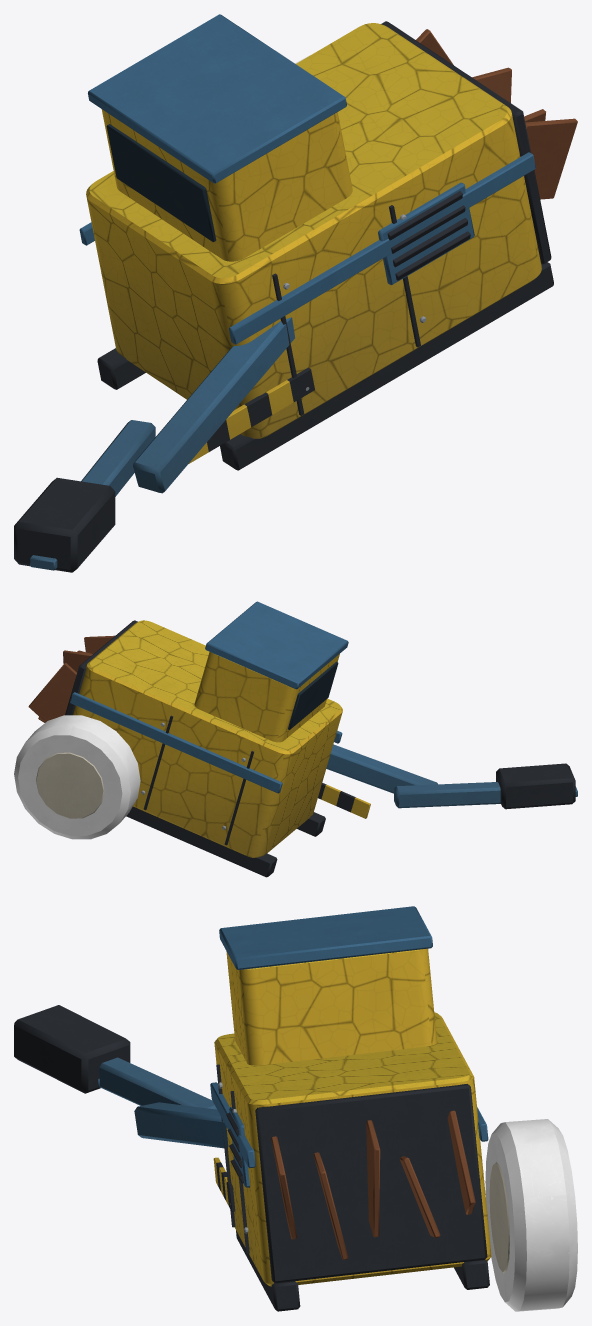
Rendered from machine_wreck.glb.
3 views of the same model, one above another, from view 1: azimuth 30°, elevation 25°; view 2: azimuth 150°, elevation 25°; view 3: azimuth 270°, elevation 25° (orthographic). The views are drawn at different scales.
Parts seen in each view (by area): view 1: machine_wreck; view 2: machine_wreck; view 3: machine_wreck.
Part boxes in pixels (x1,y1,x2,y2): machine_wreck: (14,14,577,572); machine_wreck: (14,601,577,877); machine_wreck: (14,906,577,1311).
Size of the model in its own units: 9.29 by 4.74 by 7.07.
Materials: 9 (9 with a texture image).
